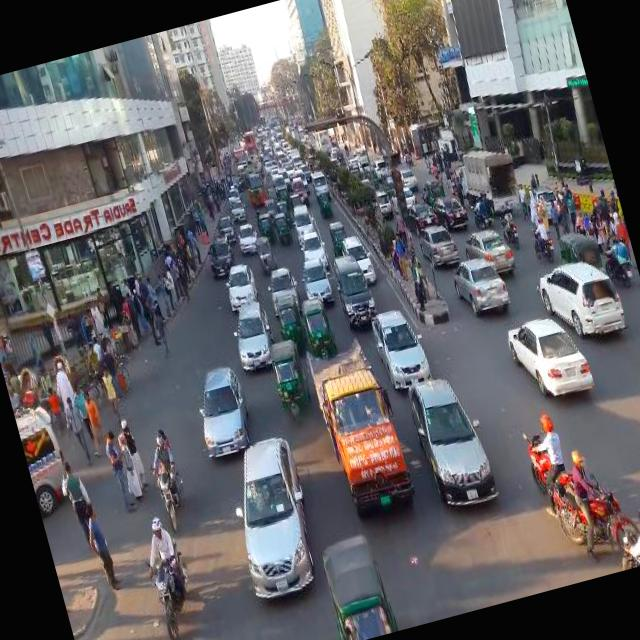bus: (240, 152, 273, 206), (313, 125, 332, 152), (242, 128, 260, 156), (232, 144, 248, 164), (261, 128, 273, 144), (274, 123, 283, 134)
car: (212, 428, 328, 604), (406, 368, 500, 514), (499, 306, 596, 406), (534, 251, 626, 344), (186, 358, 258, 454), (368, 300, 433, 386), (448, 248, 514, 318), (226, 296, 282, 372), (462, 222, 518, 280), (264, 262, 304, 321), (338, 229, 378, 286), (416, 220, 461, 269), (298, 253, 336, 310), (220, 258, 260, 306), (523, 180, 564, 226), (432, 190, 472, 233), (297, 228, 332, 275), (204, 228, 239, 274), (407, 196, 440, 234), (232, 217, 262, 254), (214, 212, 238, 242), (398, 164, 419, 190), (228, 196, 249, 222), (376, 187, 396, 214), (371, 155, 391, 180), (224, 182, 242, 204), (403, 182, 419, 206), (231, 173, 247, 190), (300, 161, 312, 179), (264, 158, 275, 174), (284, 160, 295, 176)
motorcycle: (538, 438, 640, 565), (133, 510, 208, 640), (316, 526, 399, 640), (516, 406, 578, 512), (140, 424, 196, 530), (73, 324, 138, 410), (266, 336, 318, 424), (298, 292, 340, 358), (554, 222, 606, 274), (271, 290, 311, 354), (598, 228, 638, 286), (526, 213, 558, 265), (494, 199, 524, 250), (253, 232, 280, 274), (324, 216, 350, 254), (468, 190, 492, 227), (257, 208, 278, 244), (274, 208, 294, 244), (275, 196, 293, 226), (315, 186, 334, 214), (362, 162, 381, 188), (264, 194, 280, 222)
truck: (304, 326, 418, 524), (452, 138, 526, 222), (330, 248, 380, 328), (287, 200, 319, 245), (310, 168, 332, 201), (288, 172, 310, 203), (292, 165, 310, 192), (272, 171, 290, 196), (352, 144, 370, 164), (277, 165, 291, 189), (290, 145, 304, 167), (236, 163, 245, 174), (274, 140, 282, 151), (262, 144, 272, 152), (282, 138, 290, 148)
